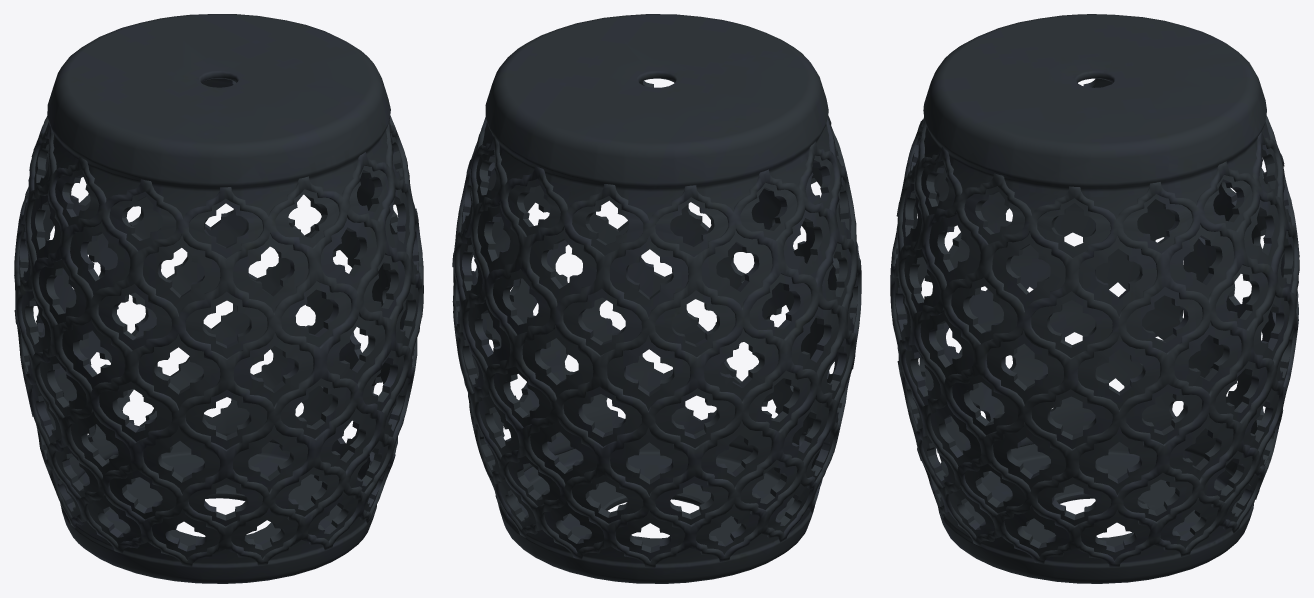
The model's file is abo-B07MHM99CR.glb.
3 views of the same model, side by side, from view 1: azimuth 30°, elevation 25°; view 2: azimuth 150°, elevation 25°; view 3: azimuth 270°, elevation 25° (orthographic).
Size of the model in its own units: 0.325 by 0.388 by 0.325.
Materials: 1 (1 with a texture image).
